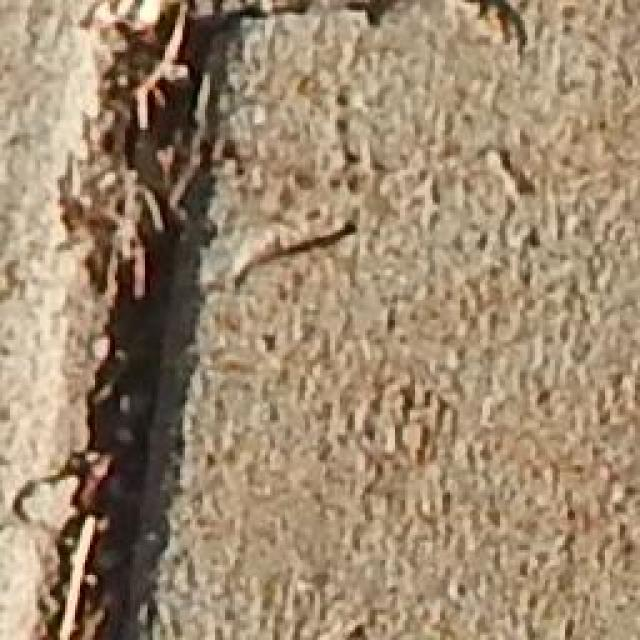concrete-crack: (13, 0, 334, 640)
